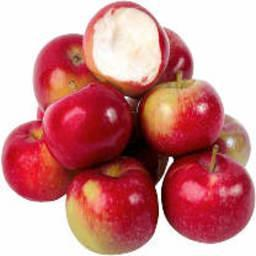apple: (64, 157, 159, 253), (159, 155, 254, 246), (81, 2, 171, 96), (42, 89, 134, 173), (138, 76, 229, 159), (1, 117, 70, 201), (32, 33, 94, 109), (212, 114, 251, 167)
